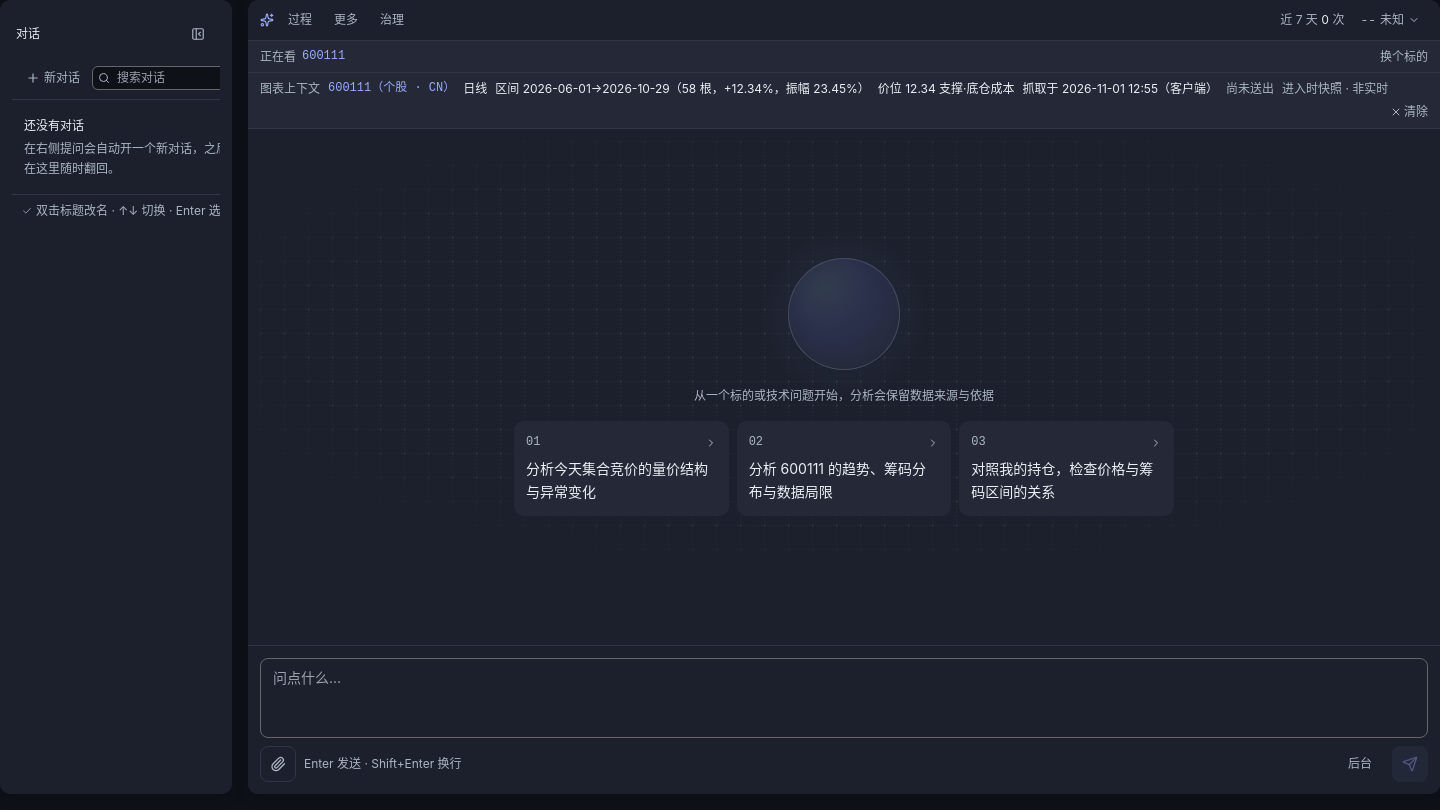
Test case: ② 同页面会话重开：不能把已进入服务端的快照藏起来 › 创建过带快照的会话 → 新对话 → 重开该会话：必须恢复「已送入」并说明仍在注入
Expected: the element with test id "copilot-chart-context" is shown, [248,73,1439,129]
Expected: the button named "发送" is shown, [1392,746,1428,782]
Step 1. Type "先看看 600111" into the text box with placeholder "问点什么…" → (844, 698), box [260,658,1428,738]
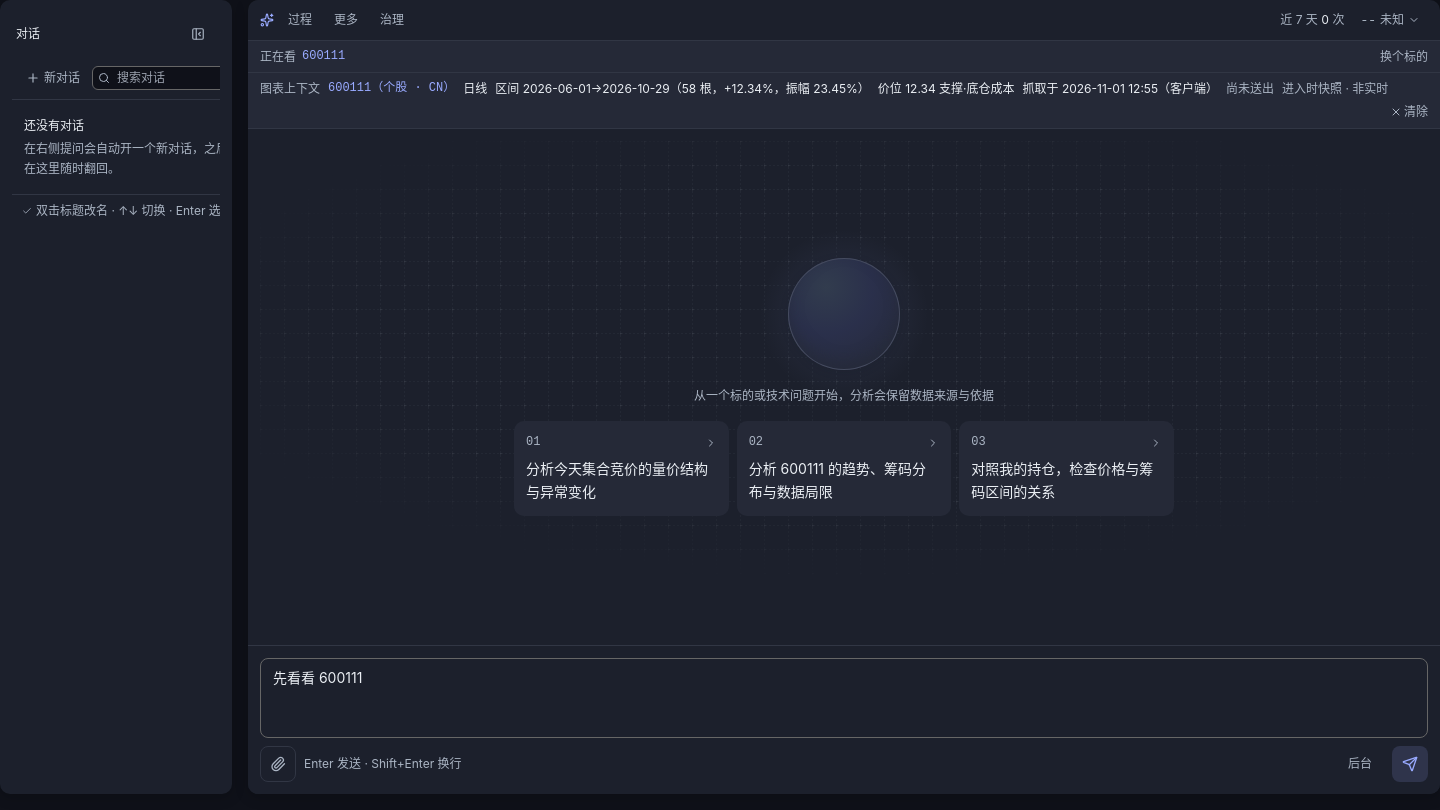
Step 2. Click the button named "发送" → (1410, 764), box [1392,746,1428,782]
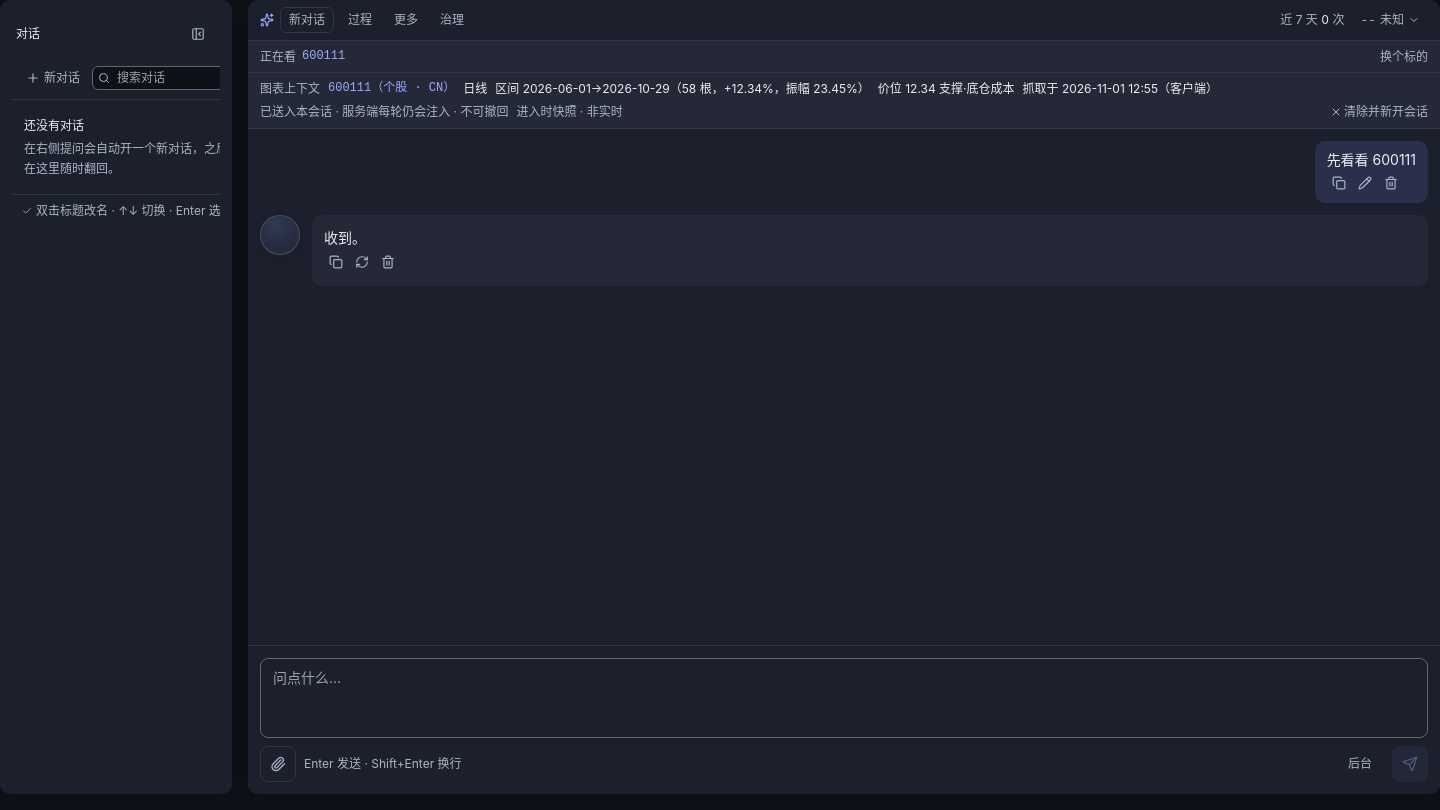
Expected: the element with test id "copilot-chart-context" shows "已送入本会话", [260,104,508,119]
Step 3. Click the button "新对话" in the row of "更多" → (307, 20), box [280,7,334,33]
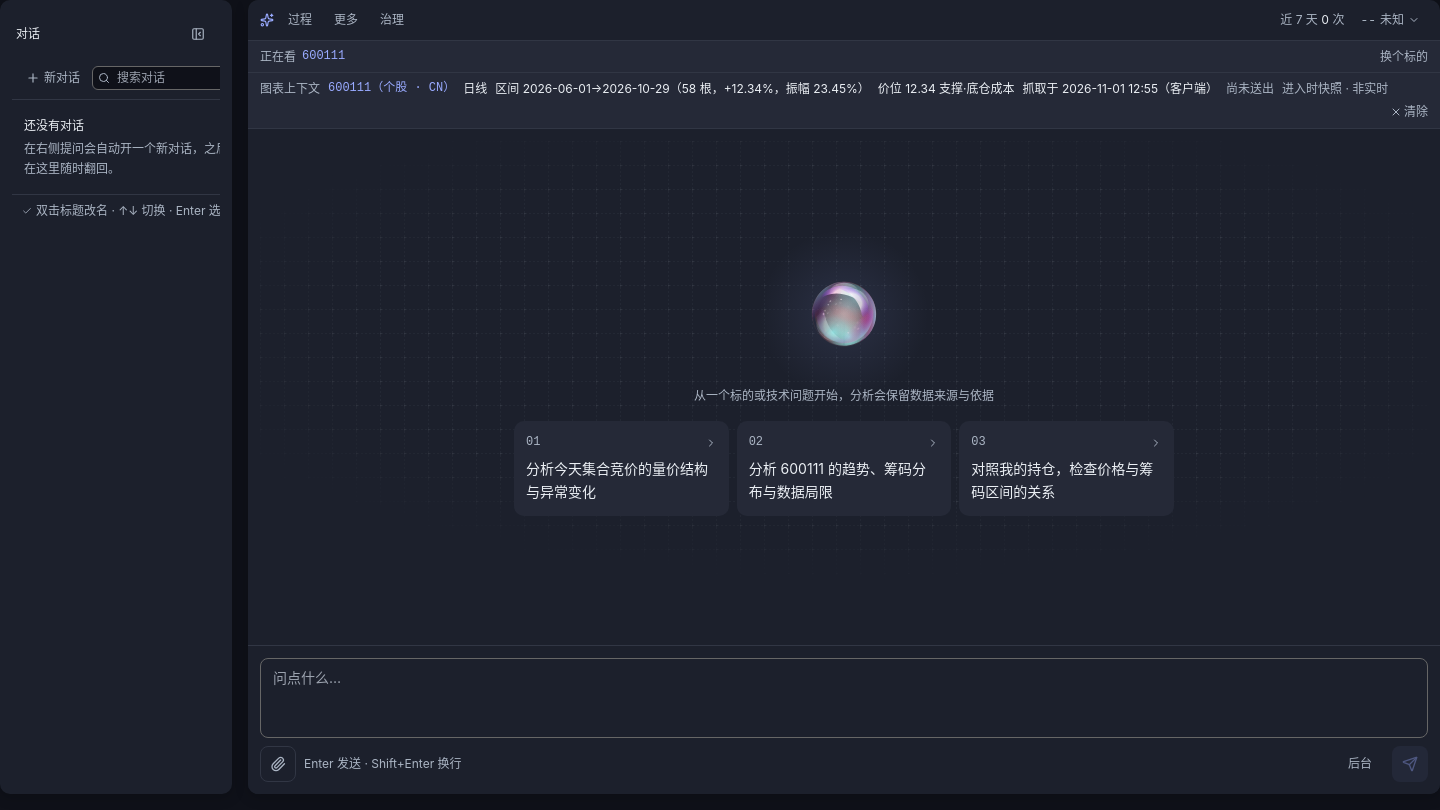
Expected: the element with test id "copilot-chart-context" shows "尚未送出", [1226,81,1274,96]
Step 4. Type "带快照" into the field with test id "copilot-conv-search" → (176, 78), box [92,66,259,90]
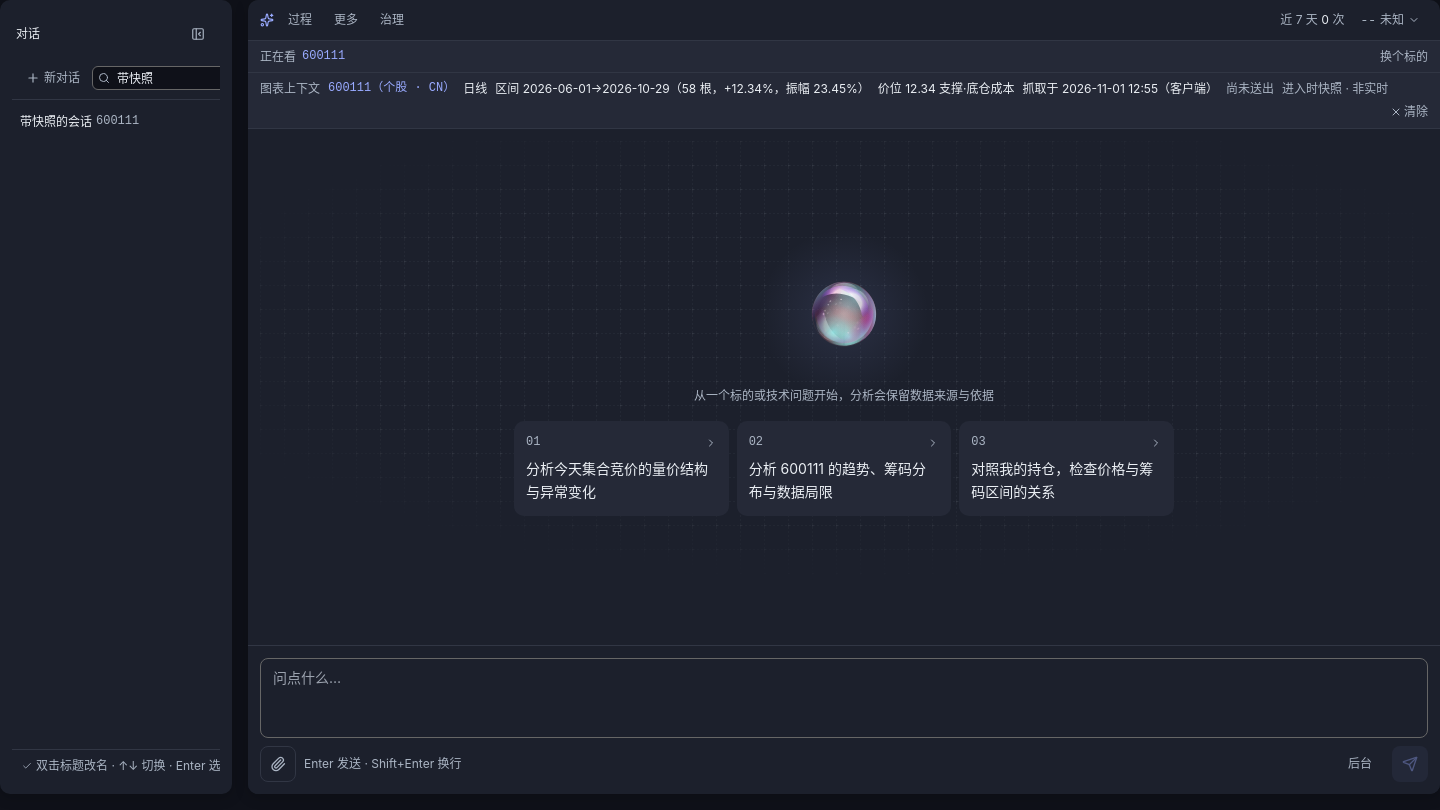
Step 5. Click the button with test id "copilot-conv-title-21" → (126, 121), box [20,112,233,131]
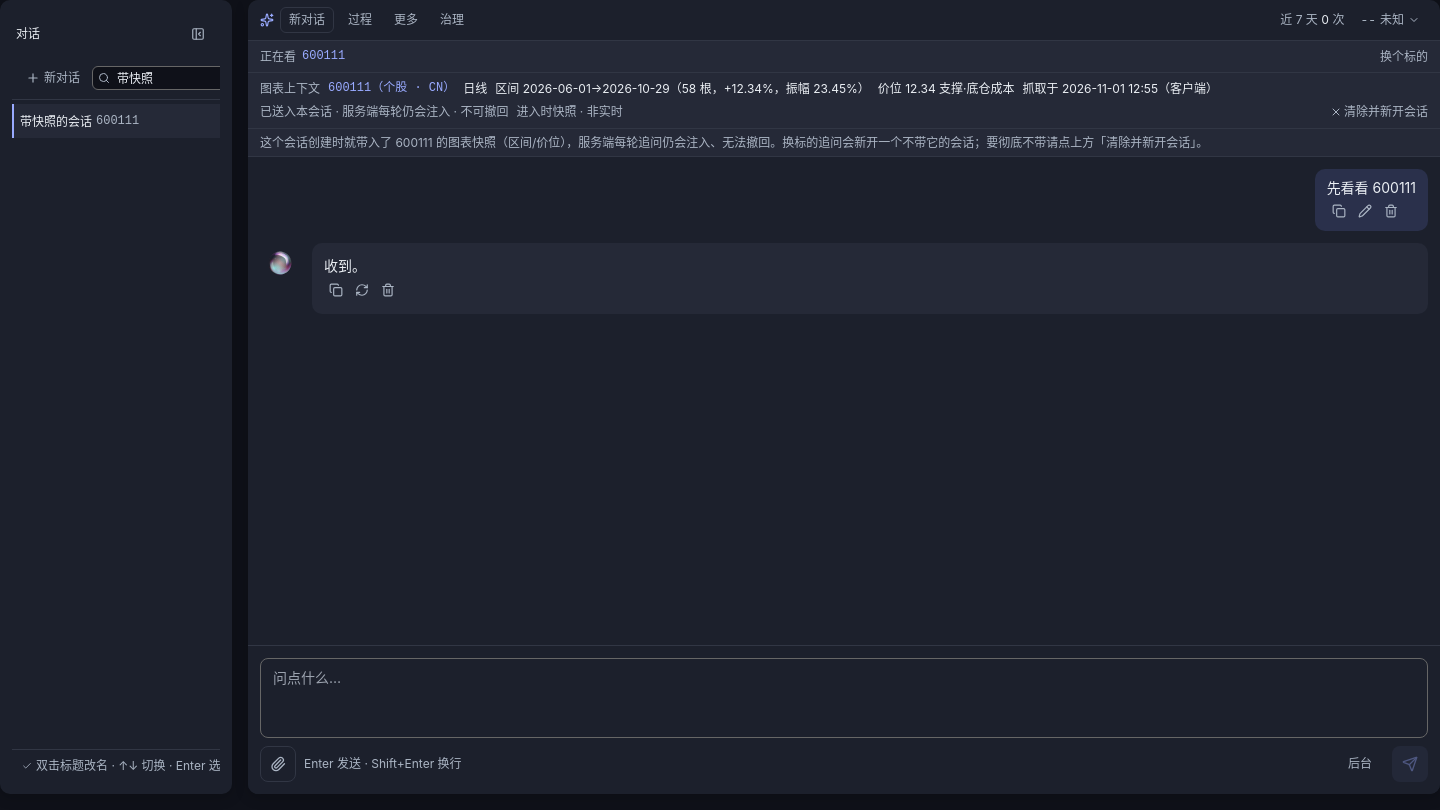
Expected: the element with test id "copilot-chart-context" shows "已送入本会话", [260,104,508,119]
Expected: the element with test id "copilot-chart-context" shows "不可撤回", [260,104,508,119]
Expected: the text "收到。" is shown, [324,257,366,274]
